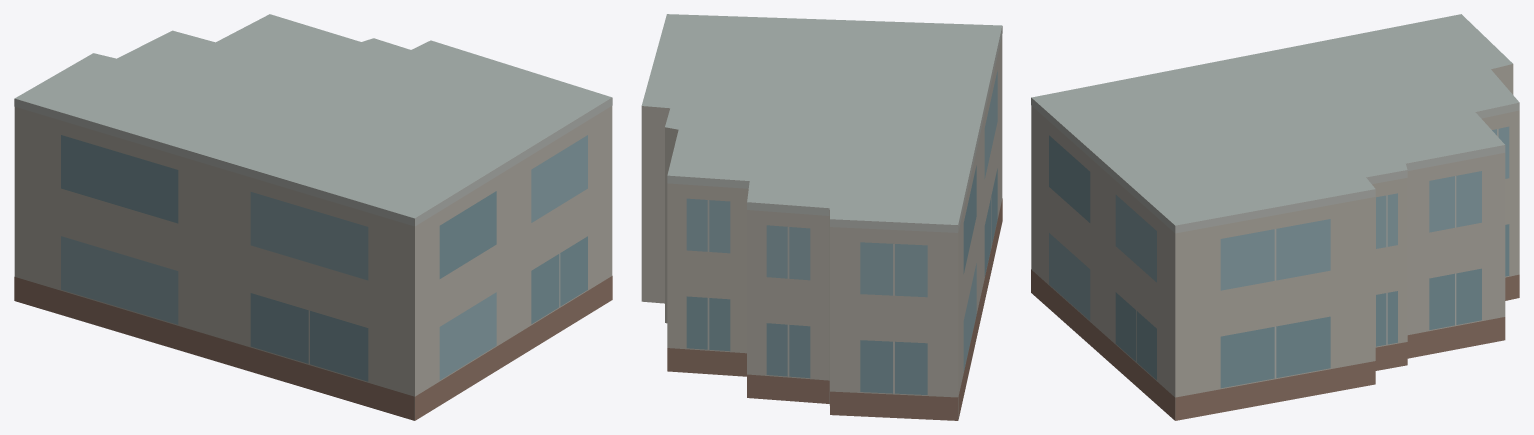
File: survey-upis-32980635.glb
3 renders of one model, left to right at view 1: azimuth 30°, elevation 25°; view 2: azimuth 150°, elevation 25°; view 3: azimuth 270°, elevation 25°, orthographic. The views are drawn at different scales.
Visible parts, largest first — view 1: survey-upis-32980635.tmp; view 2: survey-upis-32980635.tmp; view 3: survey-upis-32980635.tmp.
Part boxes in pixels (x1,y1,x2,y2): survey-upis-32980635.tmp: (14, 14, 612, 420); survey-upis-32980635.tmp: (641, 14, 1002, 420); survey-upis-32980635.tmp: (1031, 14, 1519, 420).
Bounding box in the file's own units: 14.19 × 6.1 × 13.84.
